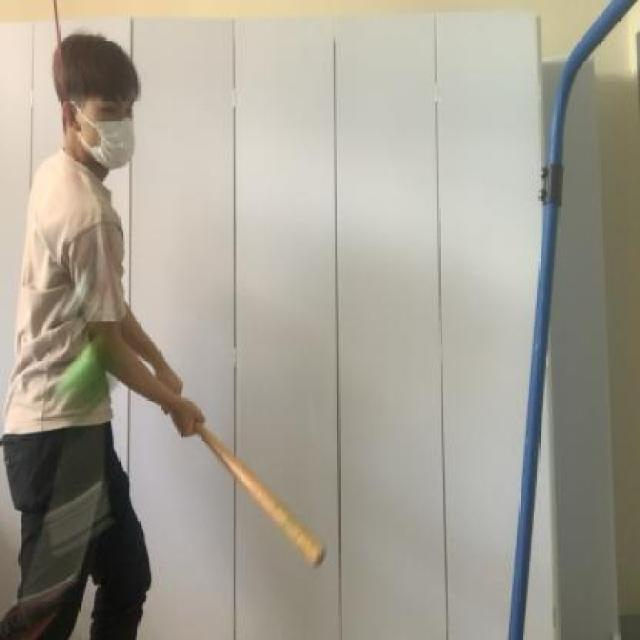baseball: (40, 308, 151, 420)
